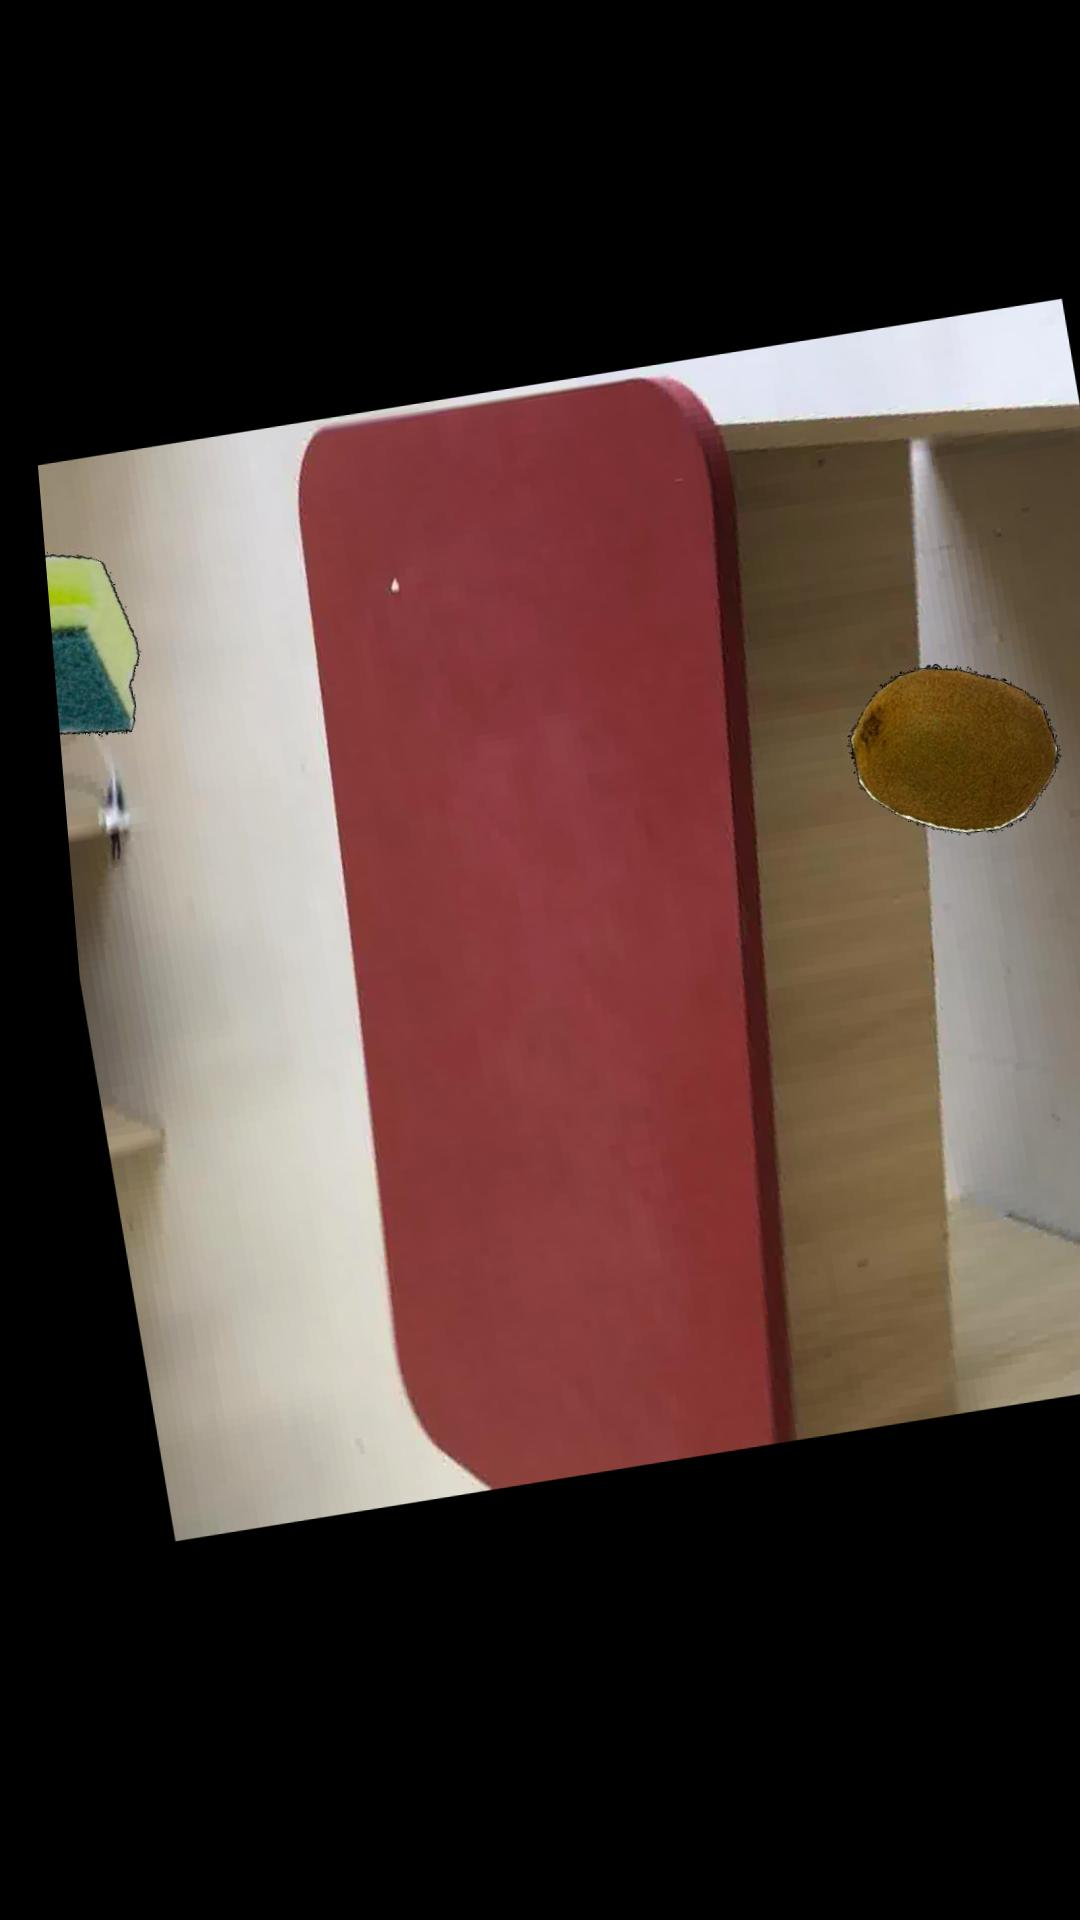kiwi: (833, 676, 1043, 848)
sponge: (36, 554, 125, 735)
